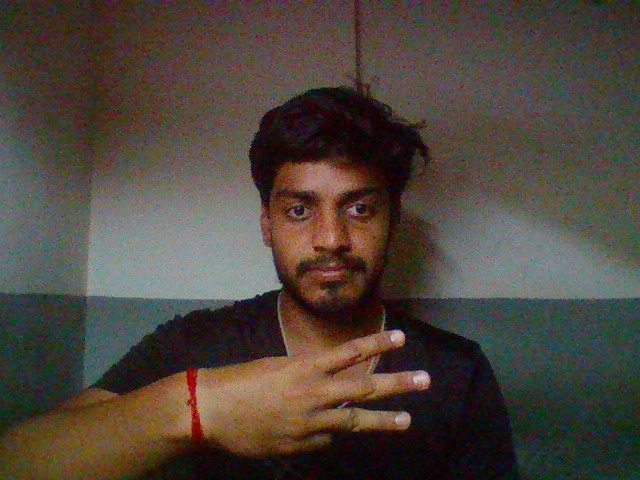E: (183, 313, 433, 468)
